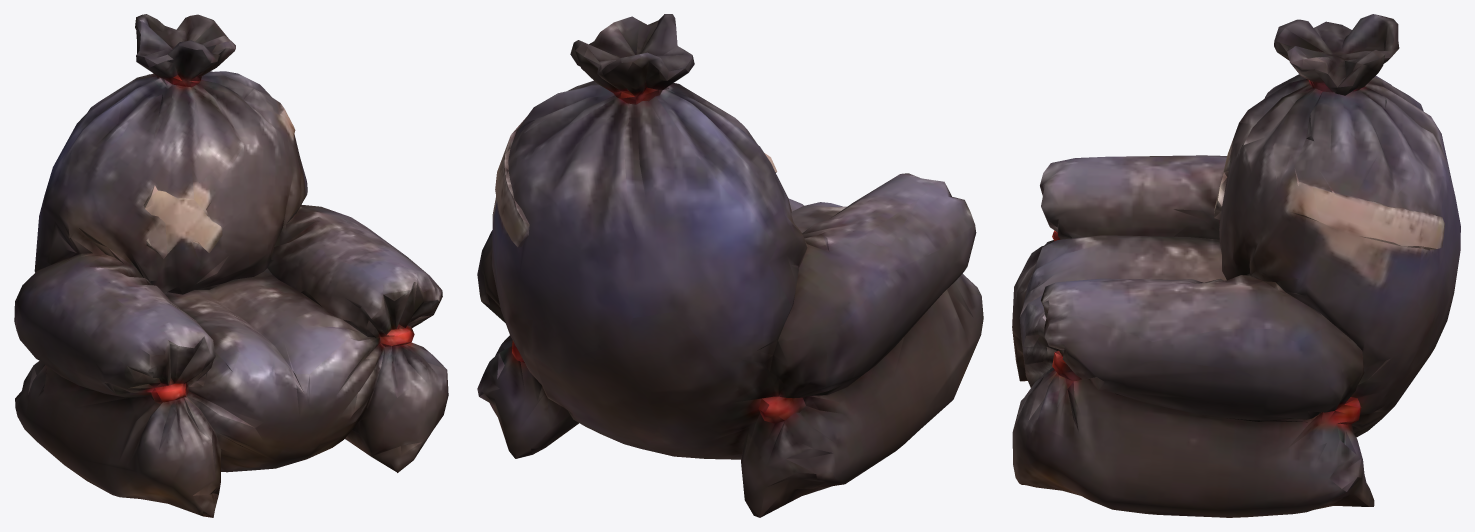
Rendered from misc03.glb.
The picture shows the model from 3 angles, left to right: view 1: azimuth 30°, elevation 25°; view 2: azimuth 150°, elevation 25°; view 3: azimuth 270°, elevation 25°; orthographic projection. The views are drawn at different scales.
Size of the model in its own units: 0.2197 by 0.2404 by 0.2262.
Materials: 1 (1 with a texture image).
